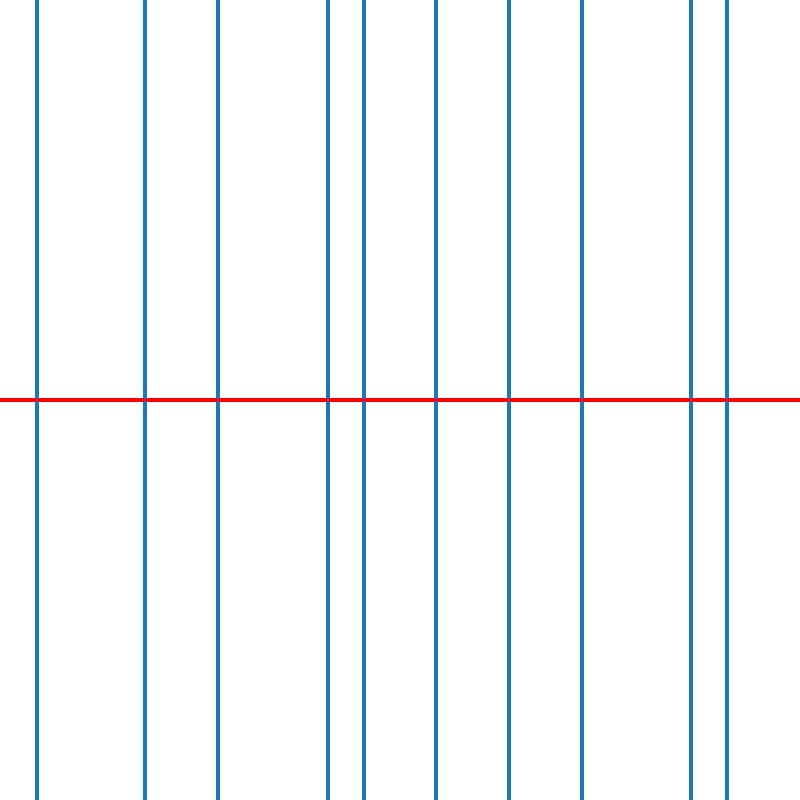root: (432, 396, 440, 404), (32, 396, 40, 404), (141, 396, 149, 404), (323, 396, 330, 404), (687, 396, 694, 404), (723, 396, 730, 404), (578, 396, 585, 404), (214, 396, 221, 404), (505, 396, 512, 404), (360, 396, 367, 404)
